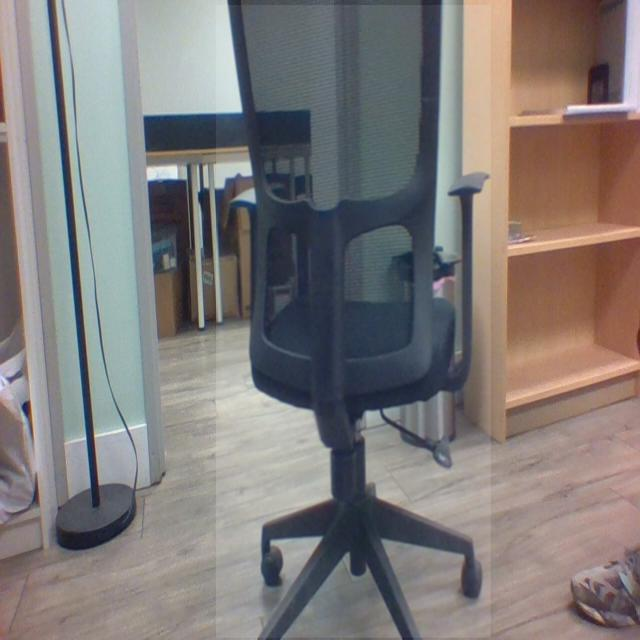black-chair: (216, 5, 492, 639)
